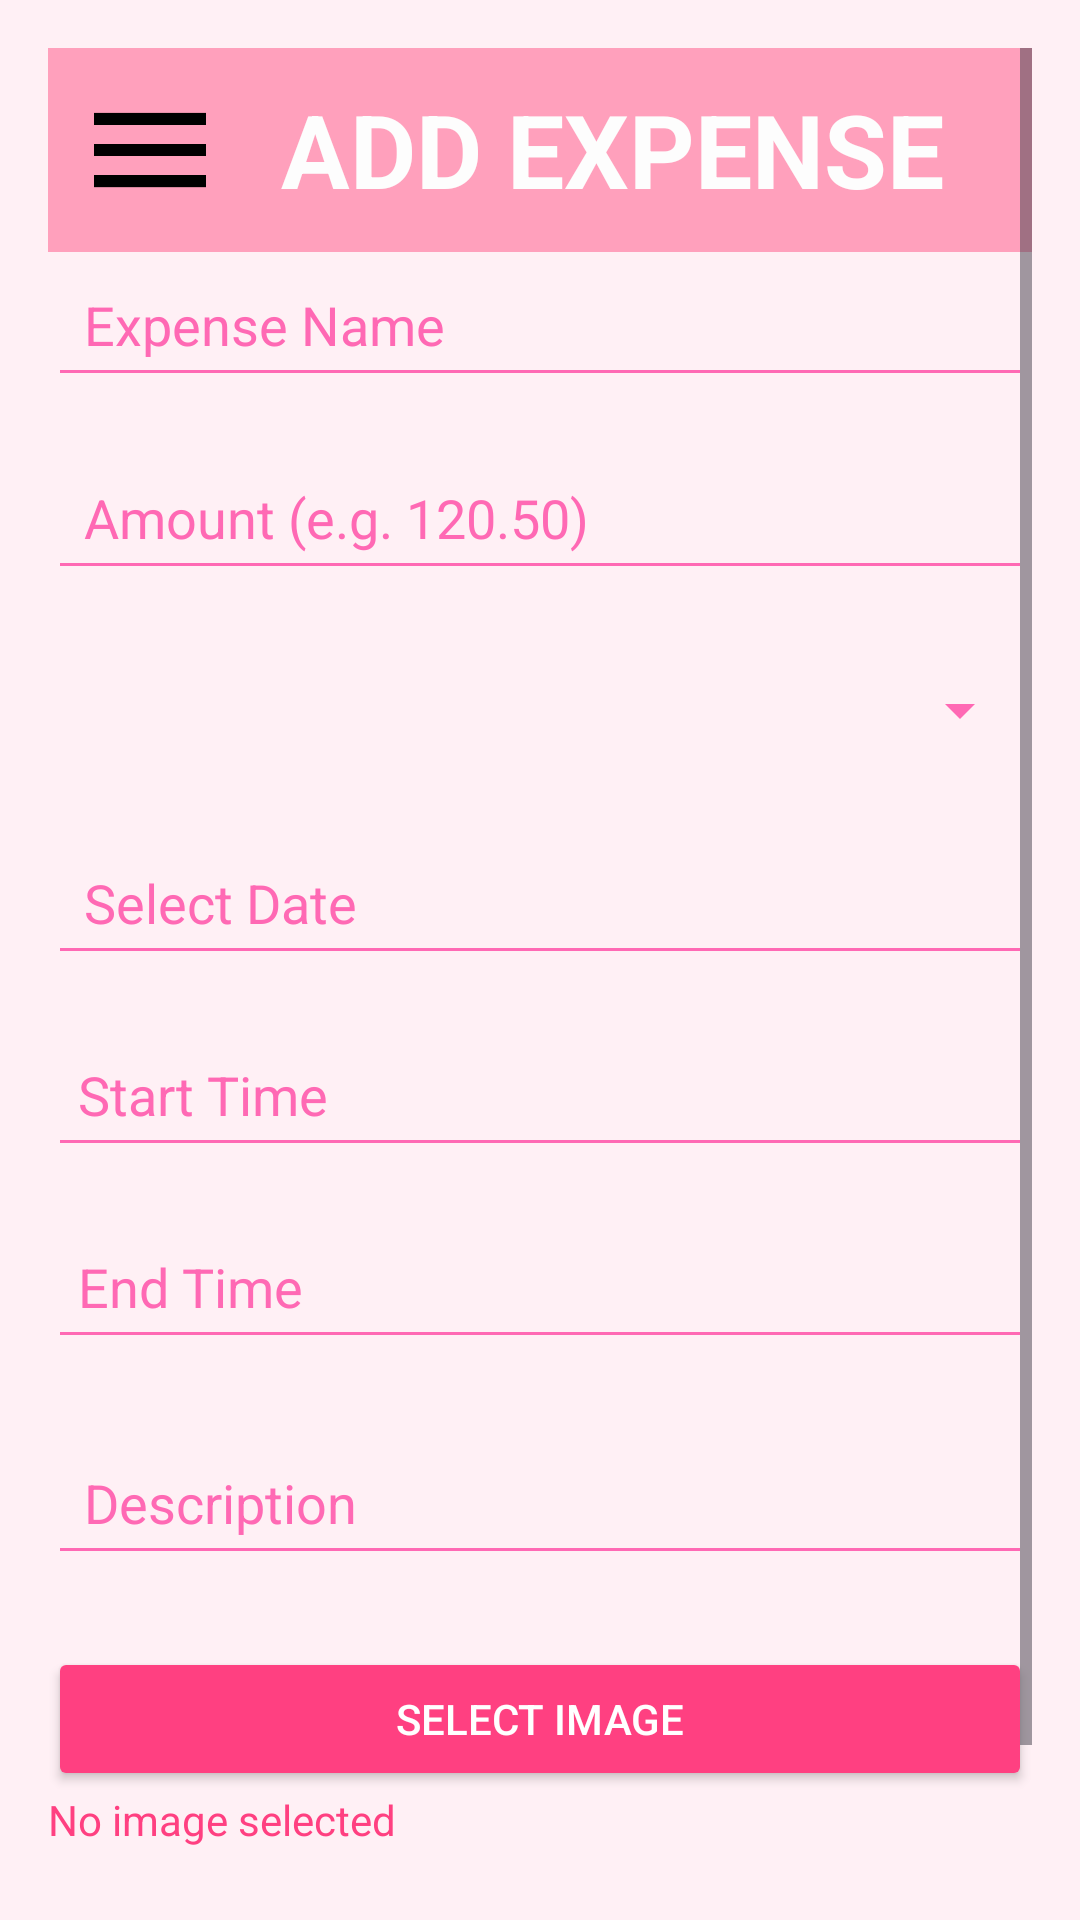

Icon click points for this 1080px×1920px phone screenshot, format [x,y]:
Menu: [150,150]
